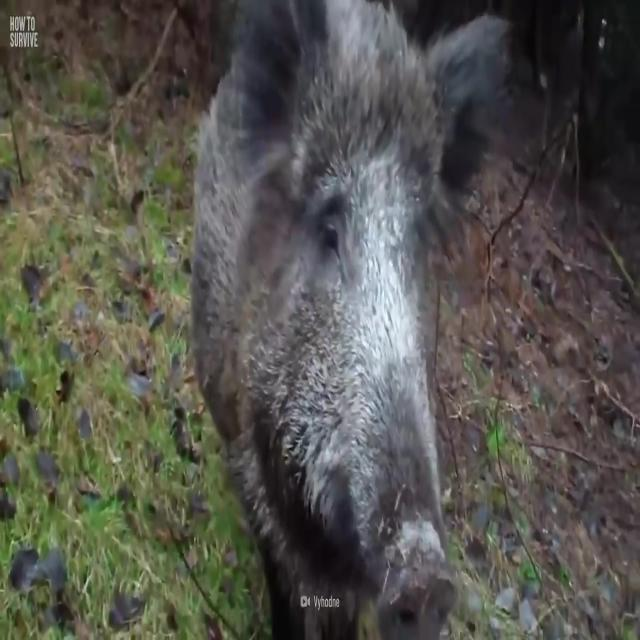pig: (178, 19, 515, 640)
